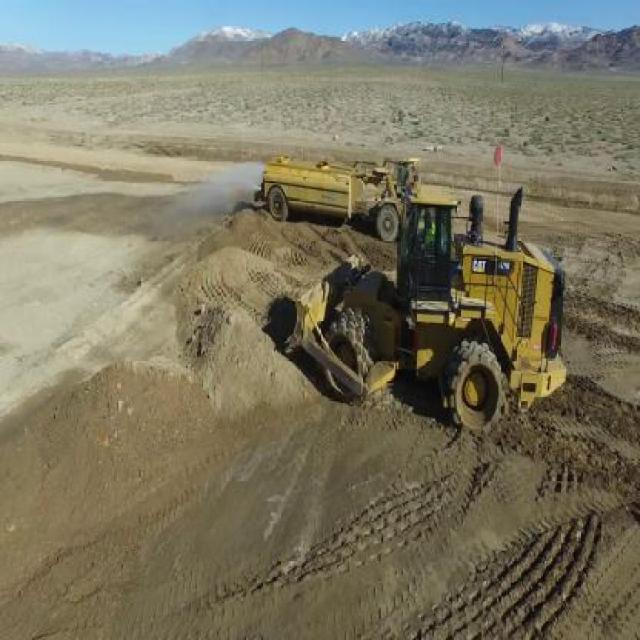dump_truck: (260, 146, 423, 240)
